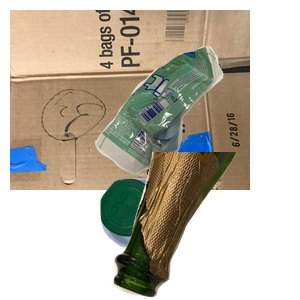cardboard: (10, 10, 250, 190)
glass: (111, 152, 300, 300)
plastic: (98, 176, 266, 300)
trash: (92, 44, 300, 211)
